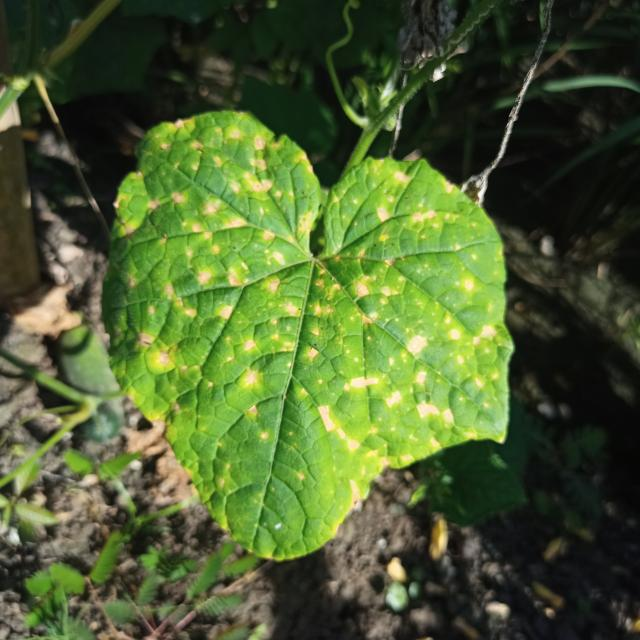disease_cucumber: (108, 123, 494, 540)
